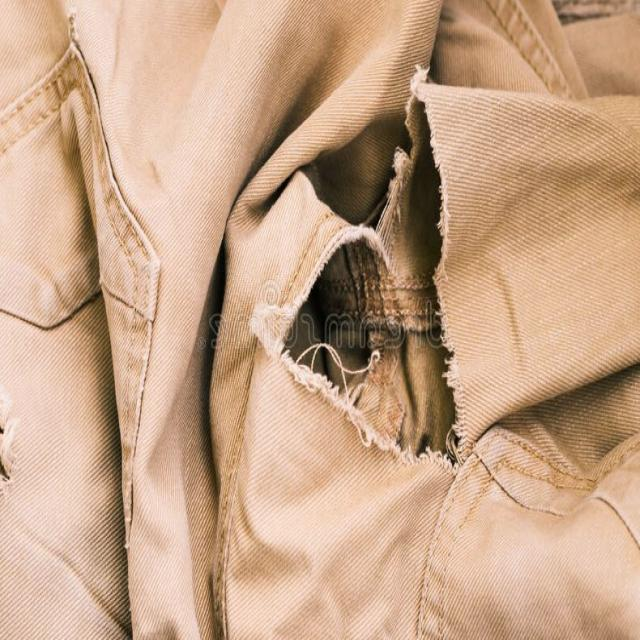clothes: (152, 86, 558, 549)
